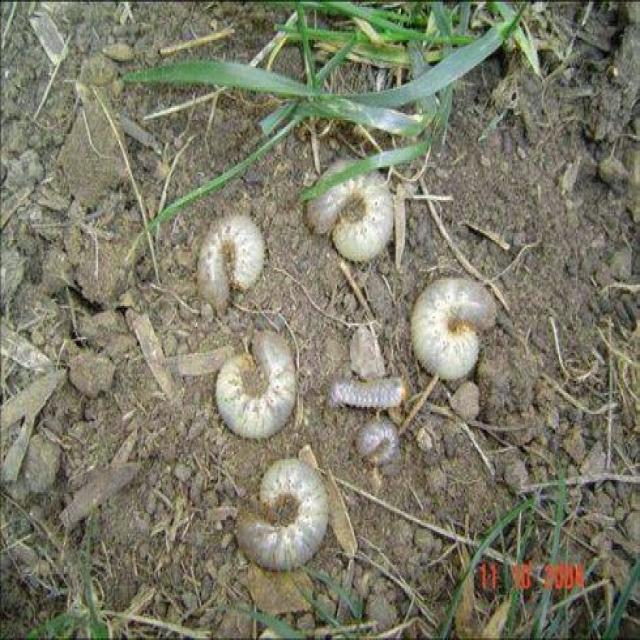grub: (303, 151, 399, 266), (407, 264, 501, 379), (230, 454, 328, 564), (219, 333, 300, 431), (198, 218, 272, 302), (323, 369, 417, 409), (358, 418, 405, 461)
